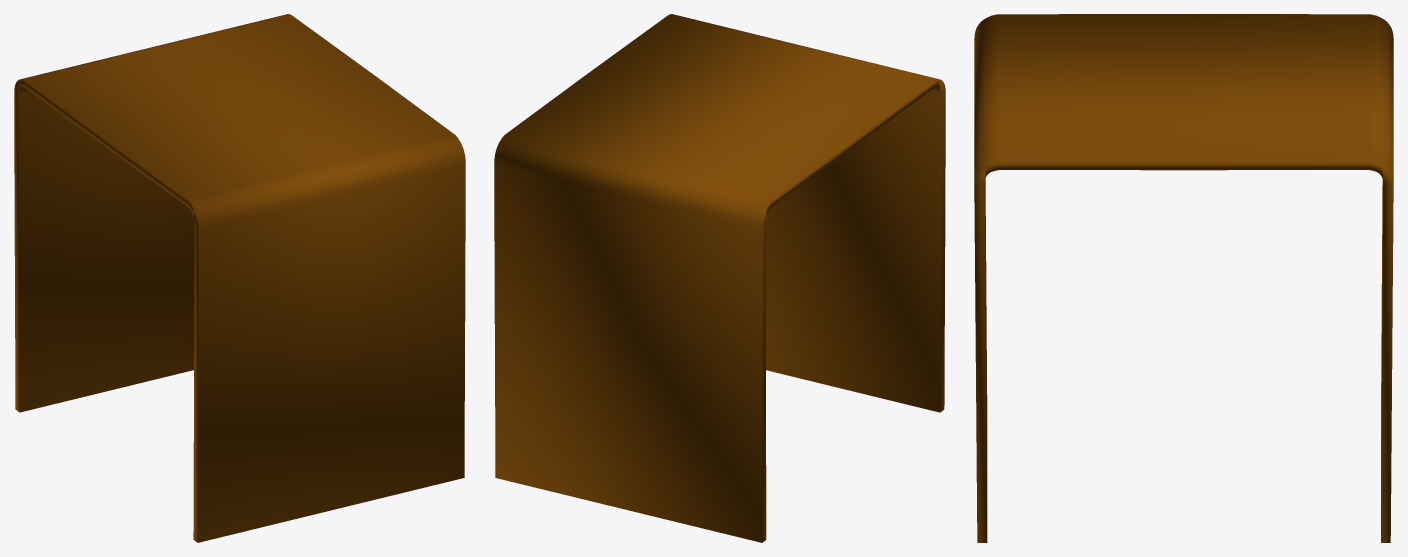
The model's file is ND-0893__Aris_mesa46.glb.
The picture shows the model from 3 angles, left to right: view 1: azimuth 30°, elevation 25°; view 2: azimuth 150°, elevation 25°; view 3: azimuth 270°, elevation 25°; orthographic projection. The views are drawn at different scales.
Parts seen in each view (by area): view 1: Cube.002; view 2: Cube.002; view 3: Cube.002.
Boxes of the visible parts, <box> form: Cube.002: <box>14,14,465,542</box>; Cube.002: <box>494,14,945,542</box>; Cube.002: <box>974,14,1393,542</box>.
Bounding box in the file's own units: 1.32 × 1.59 × 1.58.
